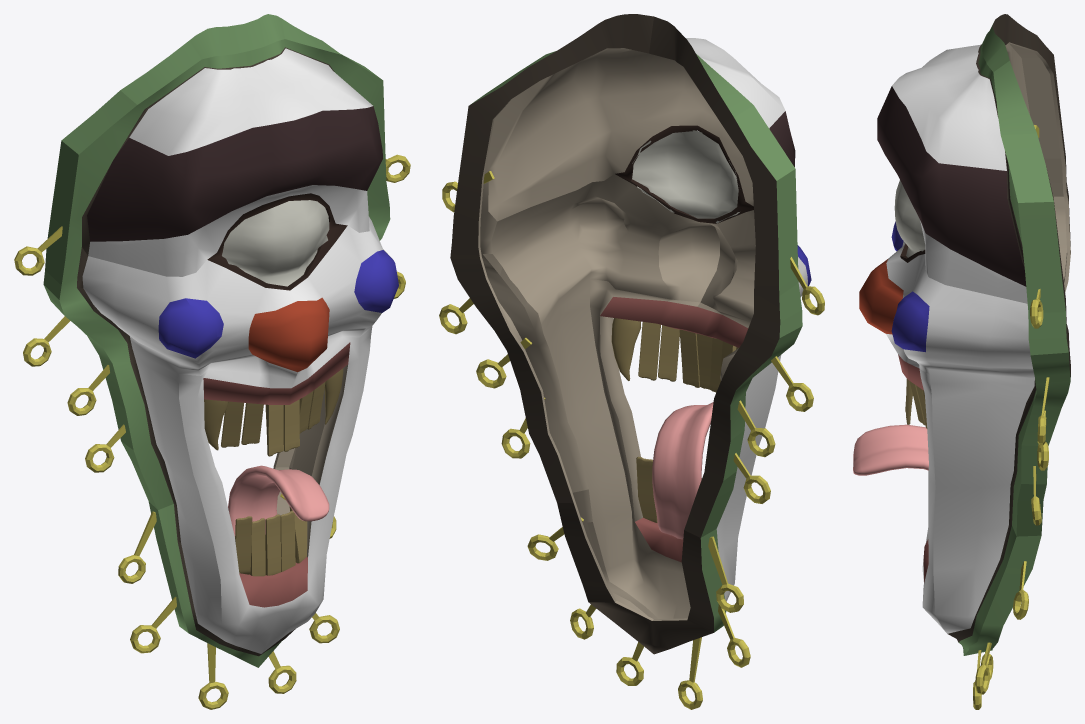
The model's file is ClownsFateMaskUpdatedPivot.fbx.
The picture shows the model from 3 angles, left to right: view 1: azimuth 30°, elevation 25°; view 2: azimuth 150°, elevation 25°; view 3: azimuth 270°, elevation 25°; orthographic projection. The views are drawn at different scales.
Visible parts, largest first — view 1: ClownsFateMask; view 2: ClownsFateMask; view 3: ClownsFateMask.
Part boxes in pixels (<box>): ClownsFateMask: <box>14,14,410,709</box>; ClownsFateMask: <box>439,14,824,709</box>; ClownsFateMask: <box>853,14,1070,709</box>.
Size of the model in its own units: 122 by 205 by 60.29.
